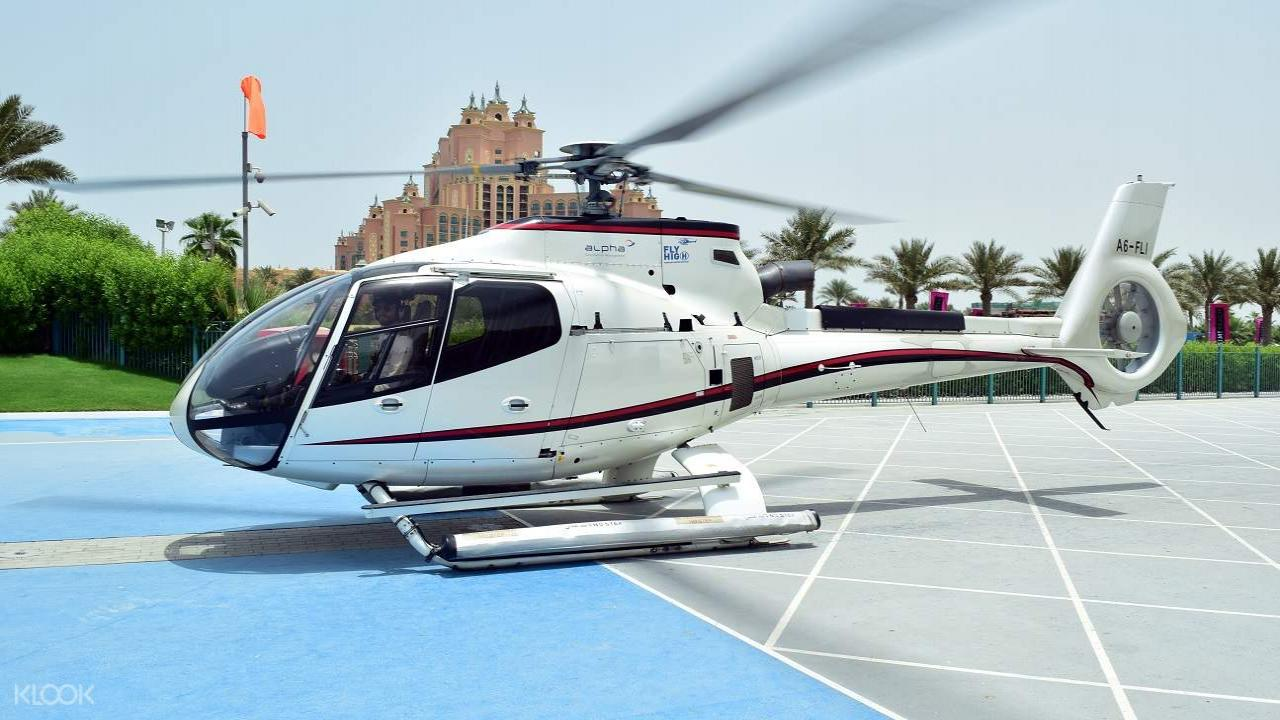Helicopter: (24, 1, 1206, 574)
